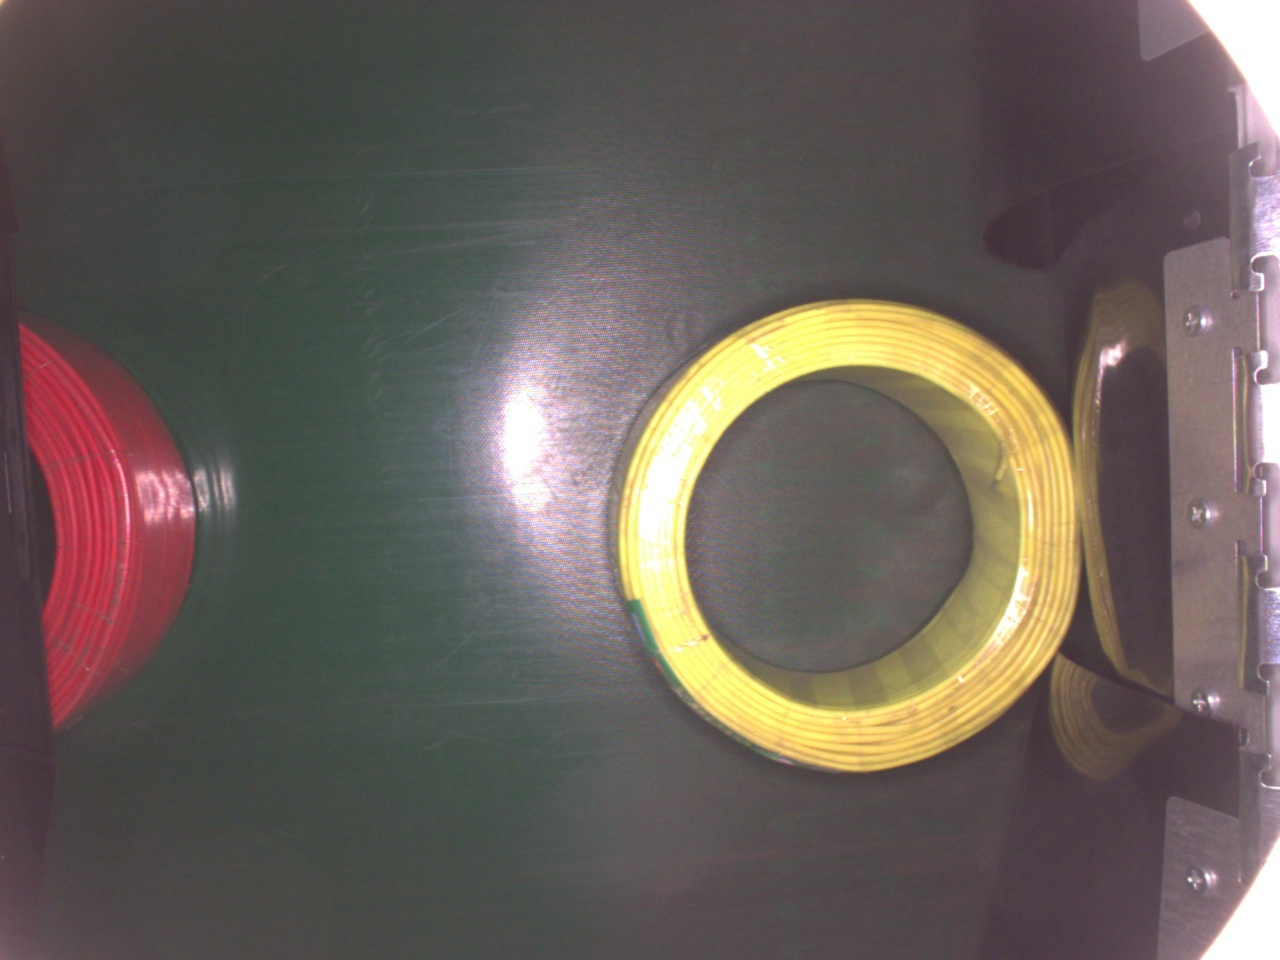red: (18, 309, 201, 732)
yellow: (609, 294, 1081, 784)
